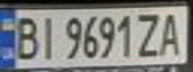1: (115, 11, 136, 58)
6: (78, 12, 100, 60)
9: (60, 12, 84, 61), (97, 12, 118, 60)
A: (157, 8, 187, 57)
B: (9, 12, 42, 61)
I: (36, 12, 60, 61)
Z: (136, 10, 163, 58)
